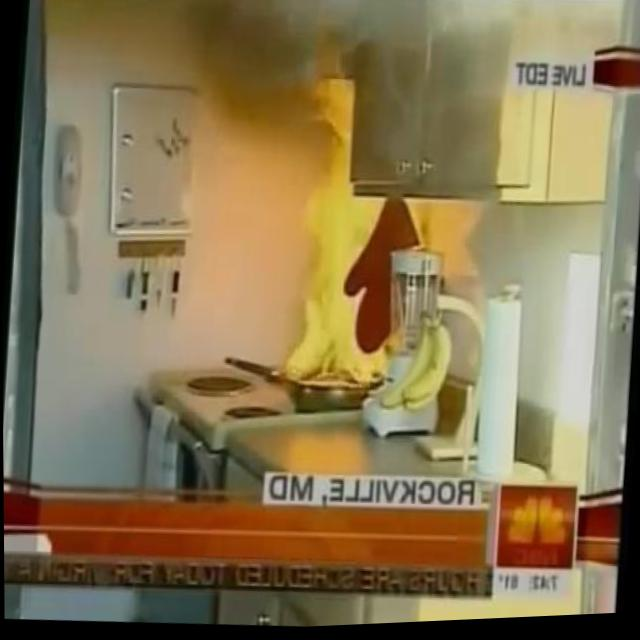fire: (272, 73, 427, 397)
